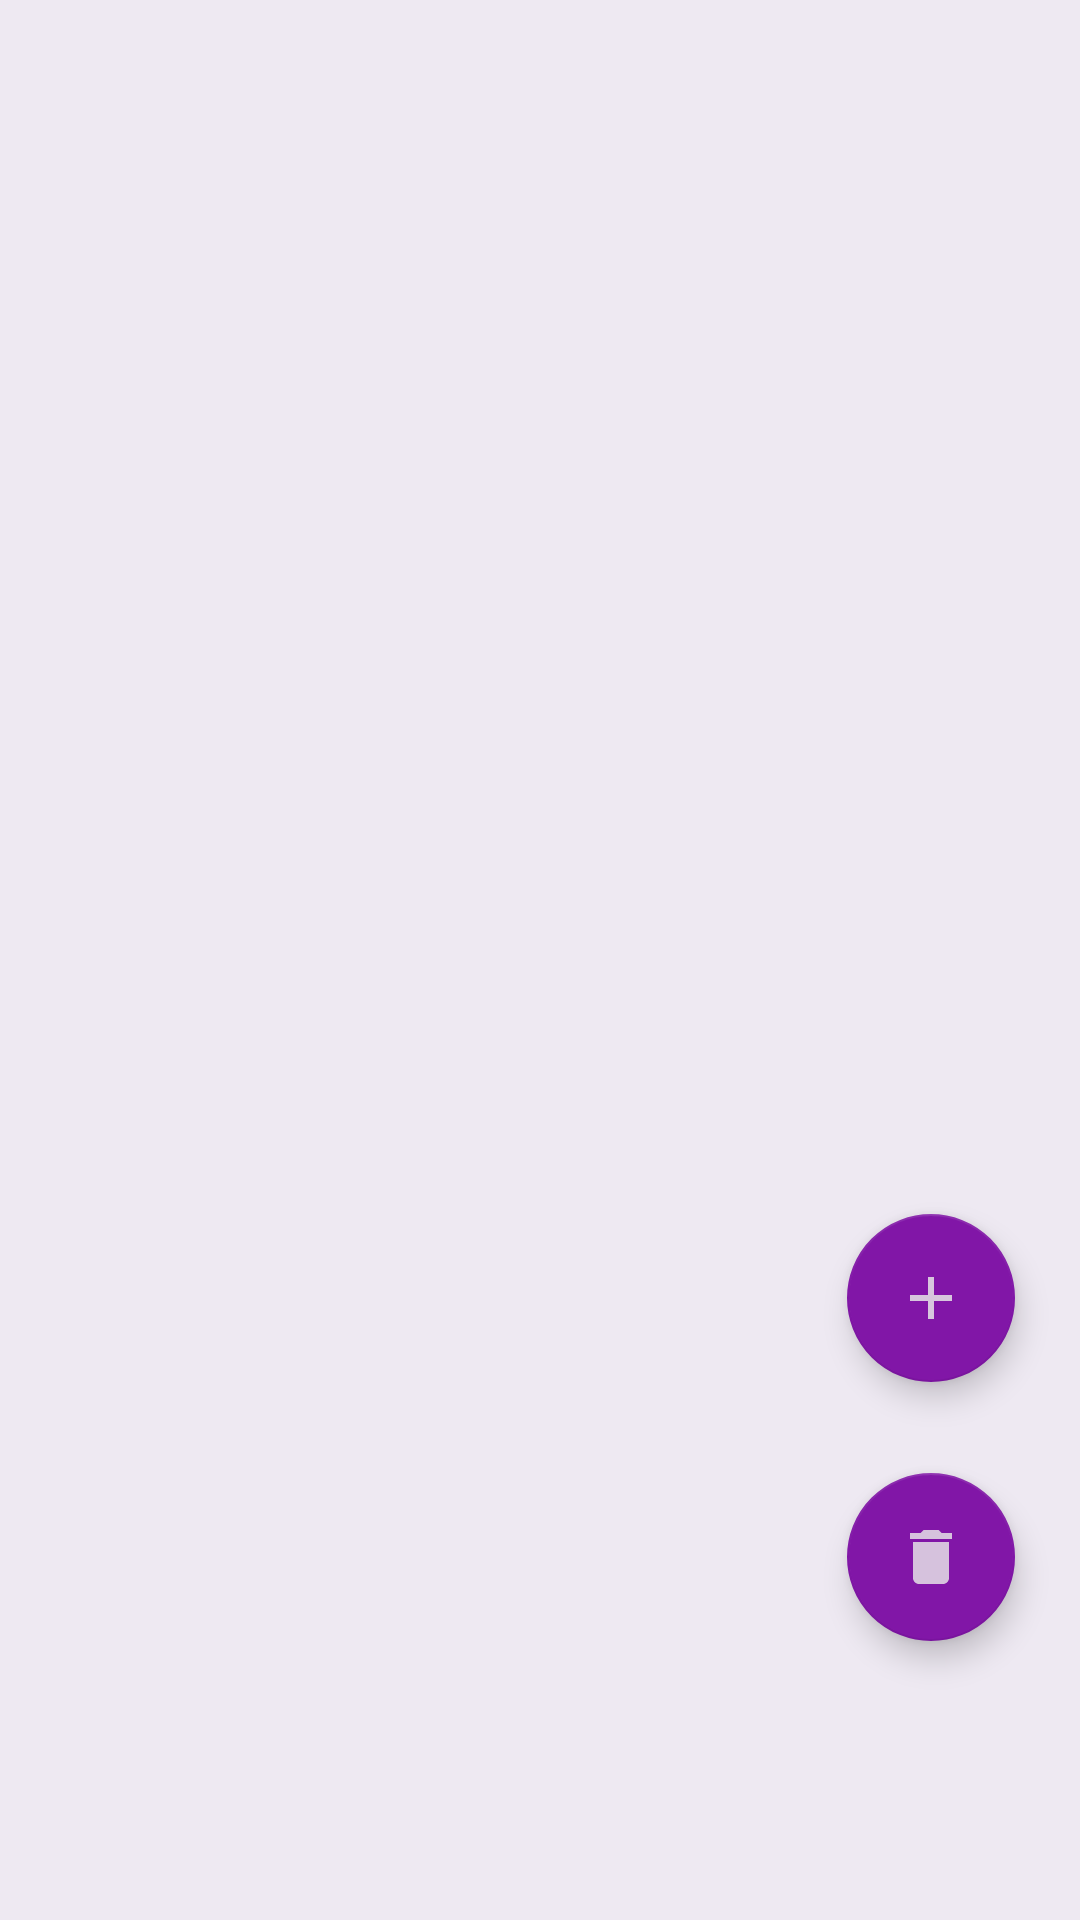

Where icons sit on this 1080×1920 app screen, as (x1, y1, x2, y2):
add: (847, 1214, 1015, 1382)
delete: (847, 1473, 1015, 1641)
